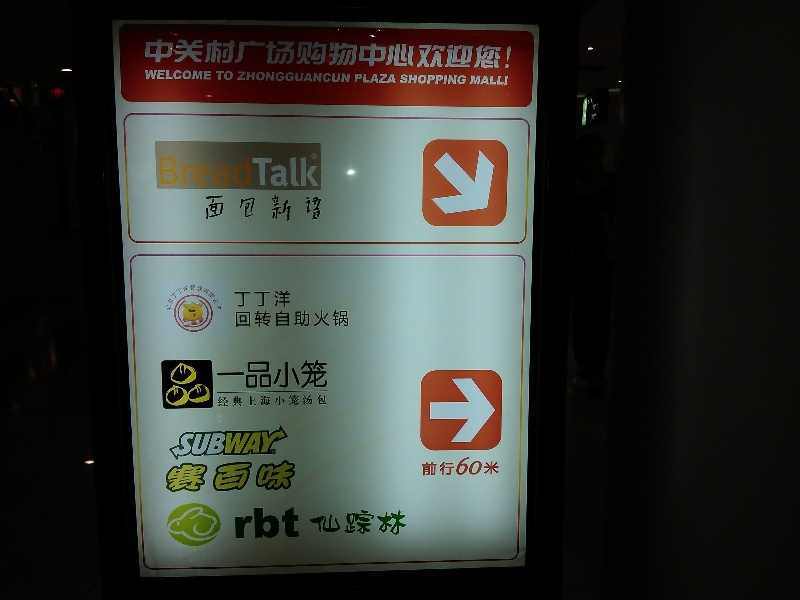text: (161, 456, 176, 498), (177, 456, 192, 498), (193, 456, 208, 498), (209, 456, 224, 498), (225, 456, 240, 498), (241, 456, 256, 498), (257, 456, 272, 498), (273, 456, 288, 498), (497, 36, 513, 71), (241, 505, 256, 542), (257, 505, 272, 542), (273, 505, 288, 542), (145, 36, 160, 71), (161, 36, 176, 71), (177, 36, 192, 71), (193, 36, 208, 71), (209, 36, 224, 71), (225, 36, 240, 71), (241, 36, 256, 71), (257, 36, 272, 71), (273, 36, 288, 71), (289, 36, 304, 71), (305, 36, 320, 71), (321, 36, 336, 71), (337, 36, 352, 71), (353, 36, 368, 71), (369, 36, 384, 71), (385, 36, 400, 71), (401, 36, 416, 71), (417, 36, 432, 71), (433, 36, 448, 71), (449, 36, 464, 71), (465, 36, 480, 71), (481, 36, 496, 71), (289, 505, 303, 542), (177, 425, 192, 459), (193, 425, 208, 459), (209, 425, 224, 459), (225, 425, 240, 459), (241, 425, 256, 459), (257, 425, 272, 459), (273, 425, 288, 459), (161, 155, 176, 188), (177, 155, 192, 188), (193, 155, 208, 188), (209, 155, 224, 188), (225, 155, 240, 188), (241, 155, 256, 188), (257, 155, 272, 188), (273, 155, 288, 188), (289, 155, 304, 188), (305, 155, 320, 188), (225, 359, 240, 390), (241, 359, 256, 390), (257, 359, 272, 390), (273, 359, 288, 390), (289, 359, 304, 390), (305, 359, 320, 390), (289, 456, 300, 498), (209, 195, 224, 223), (225, 195, 240, 223), (241, 195, 256, 223), (257, 195, 272, 223), (273, 195, 288, 223), (289, 195, 304, 223), (305, 195, 320, 223), (177, 284, 192, 312), (193, 284, 208, 312), (321, 510, 336, 536), (337, 510, 352, 536), (353, 510, 368, 536), (369, 510, 384, 536), (385, 510, 400, 536), (209, 284, 222, 312), (213, 359, 224, 390), (166, 425, 176, 459), (241, 289, 256, 310), (257, 289, 272, 310), (273, 289, 288, 310), (433, 456, 448, 477), (449, 456, 464, 477), (465, 456, 480, 477), (481, 456, 496, 477), (308, 510, 320, 536), (321, 359, 331, 390), (232, 505, 240, 542), (241, 310, 256, 329), (257, 310, 272, 329), (273, 310, 288, 329), (289, 310, 304, 329), (305, 310, 320, 329), (321, 310, 336, 329), (166, 284, 176, 312), (225, 393, 240, 411), (241, 393, 256, 411), (257, 393, 272, 411), (273, 393, 288, 411), (289, 393, 304, 411), (305, 393, 320, 411), (337, 310, 351, 329), (421, 456, 432, 477), (145, 68, 160, 82), (161, 68, 176, 82), (177, 68, 192, 82), (193, 68, 208, 82), (241, 71, 256, 84), (257, 71, 272, 84), (273, 71, 288, 84), (289, 71, 304, 84), (305, 71, 320, 84), (321, 71, 336, 84), (369, 73, 384, 86), (401, 74, 416, 87), (417, 74, 432, 87), (433, 74, 448, 87), (449, 74, 464, 87), (481, 74, 496, 87), (337, 71, 351, 84), (355, 73, 368, 86), (497, 74, 510, 87), (321, 195, 327, 223), (215, 393, 224, 411), (385, 73, 397, 86), (401, 510, 407, 536), (233, 289, 240, 310), (321, 393, 329, 411), (203, 195, 208, 223), (233, 310, 240, 329), (470, 74, 480, 87), (225, 70, 234, 82), (289, 289, 294, 310), (216, 70, 224, 82), (497, 456, 501, 477), (158, 155, 160, 188), (321, 155, 323, 188), (209, 68, 213, 82), (237, 71, 240, 84), (465, 74, 467, 87)
